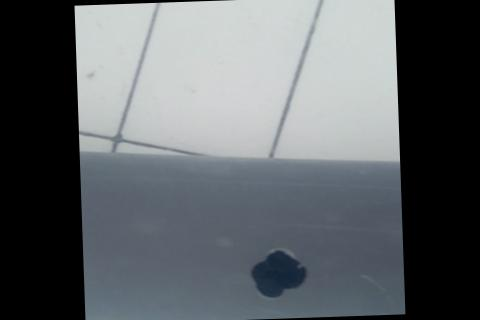kebocoran: (248, 245, 310, 299)
